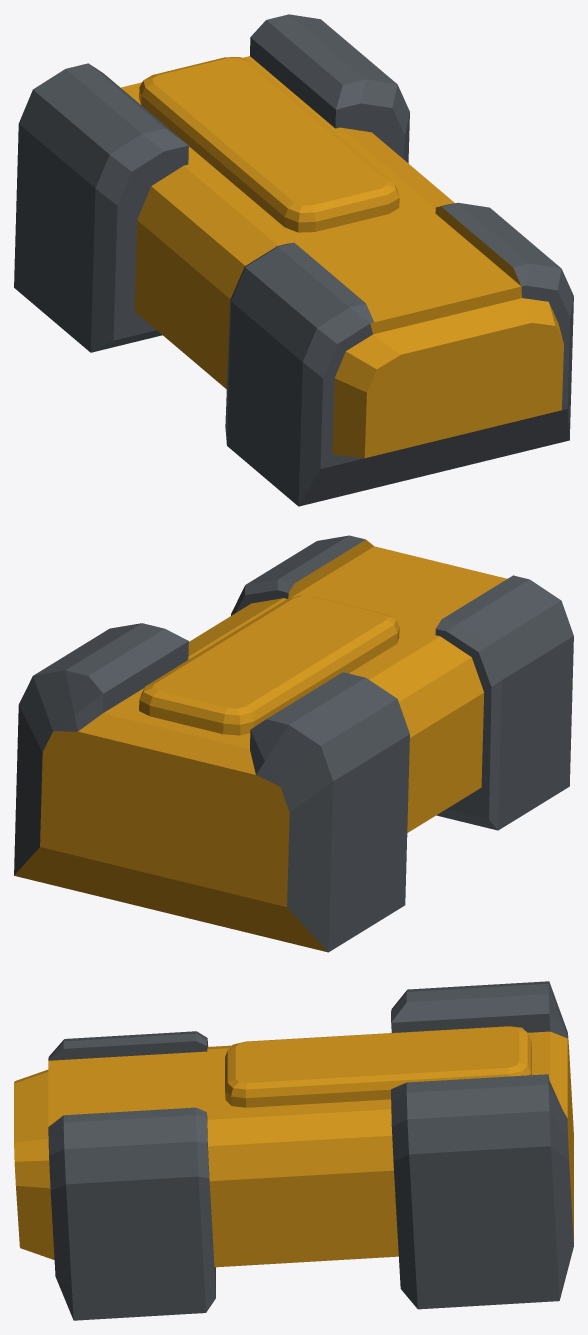
The model's file is Fighter_04_Hatch_Yellow.fbx.
3 renders of one model, top to bottom at view 1: azimuth 30°, elevation 25°; view 2: azimuth 150°, elevation 25°; view 3: azimuth 270°, elevation 25°, orthographic. The views are drawn at different scales.
Visible parts, largest first — view 1: Fighter_04_Hatch_Yellow; view 2: Fighter_04_Hatch_Yellow; view 3: Fighter_04_Hatch_Yellow.
Boxes of the visible parts, x1,y1,x2,y2 form: Fighter_04_Hatch_Yellow: (14, 14, 573, 506); Fighter_04_Hatch_Yellow: (14, 535, 573, 952); Fighter_04_Hatch_Yellow: (14, 981, 573, 1320).
Size of the model in its own units: 176 by 130 by 293.
1 material, 1 textured.
